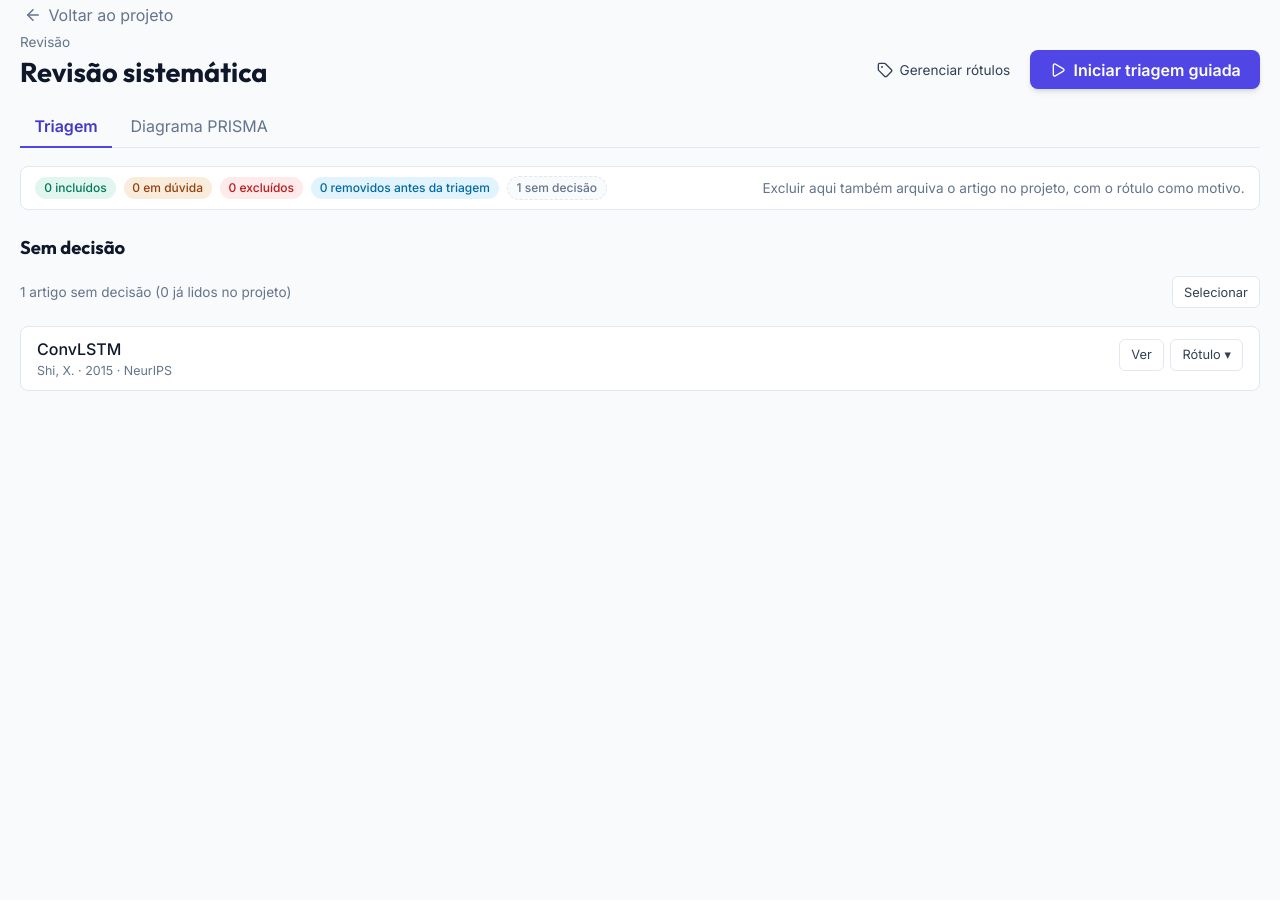
it: SystematicReviewPage (#49) › decides an undecided article from its menu, and undoes it from the toast
Click the button "Rótulo ▾" at (1207, 355), box [1170,339,1243,371]
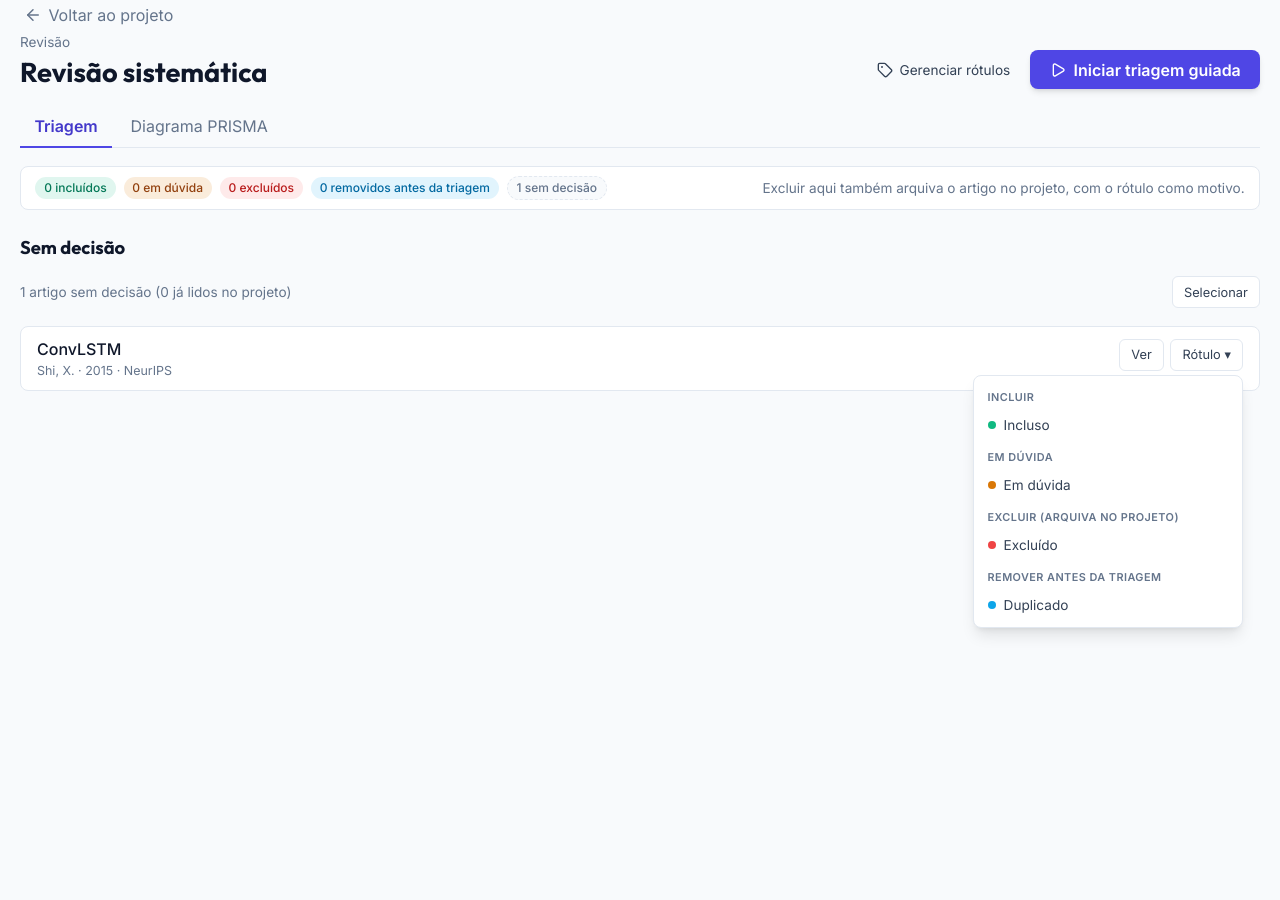
Click the menu item "Incluso" at (1108, 424), box [980,408,1236,442]
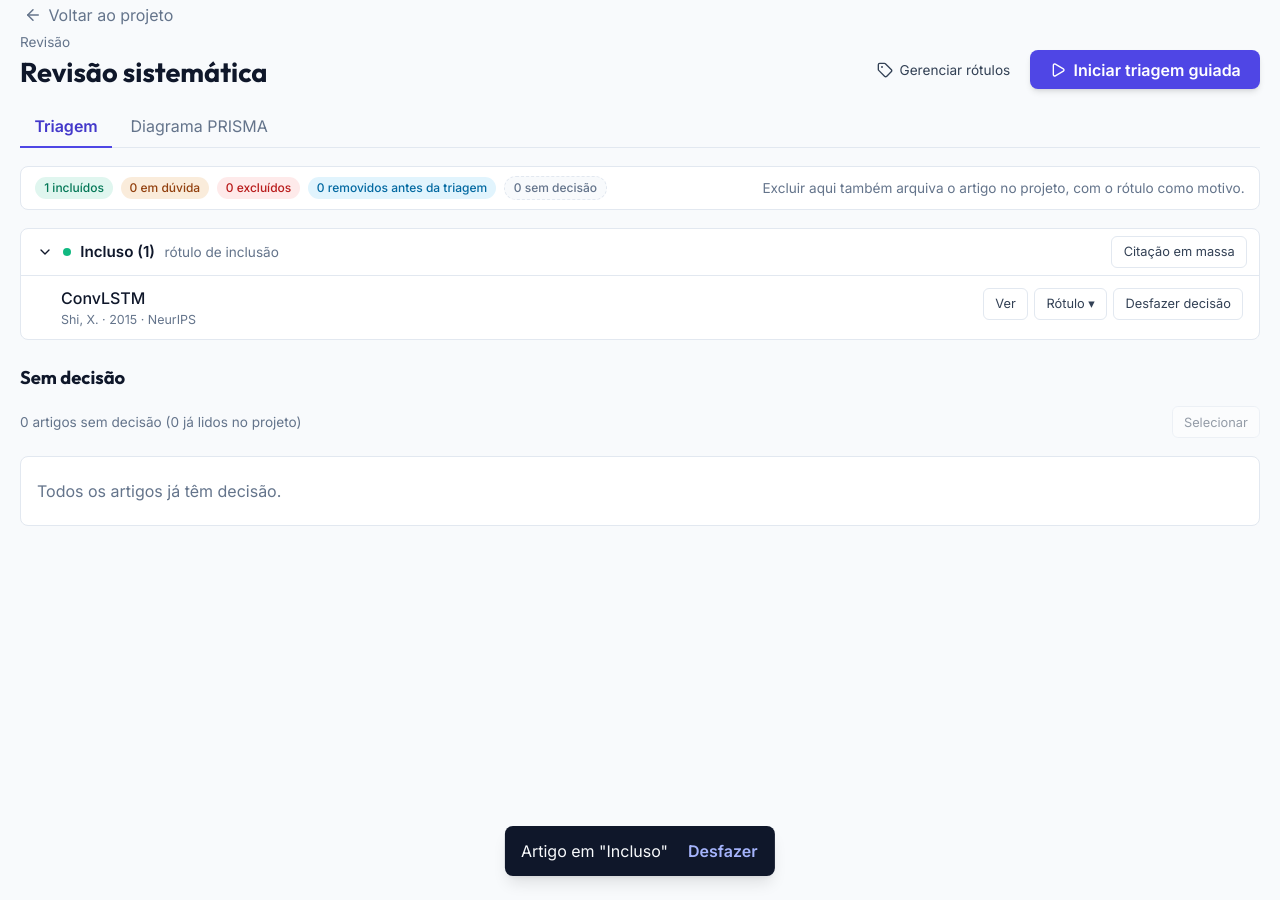
Check: the element "Incluso (1)" is shown, box [20,228,1260,340]
Click the button "Desfazer" at (723, 851), box [682,835,763,866]
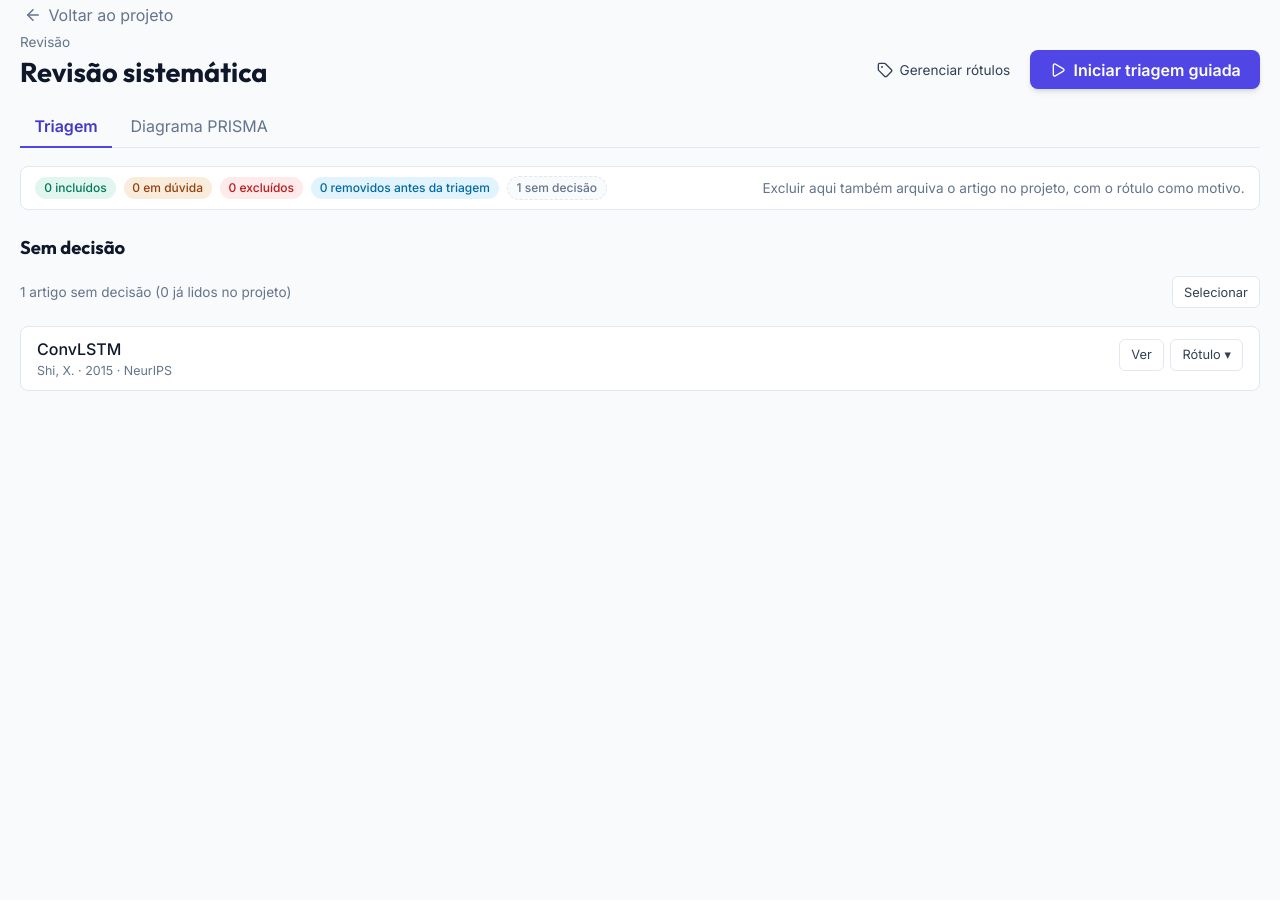
Check: the text "ConvLSTM" is shown, box [37,339,121,359]
Check: the button "Incluso" is gone
